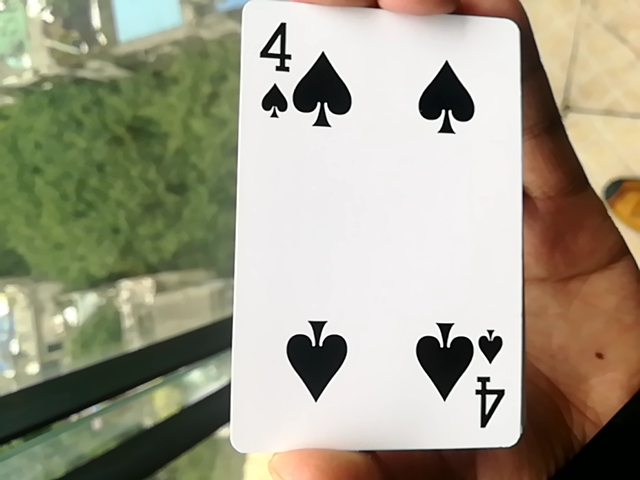ht 4: (227, 0, 508, 469)
